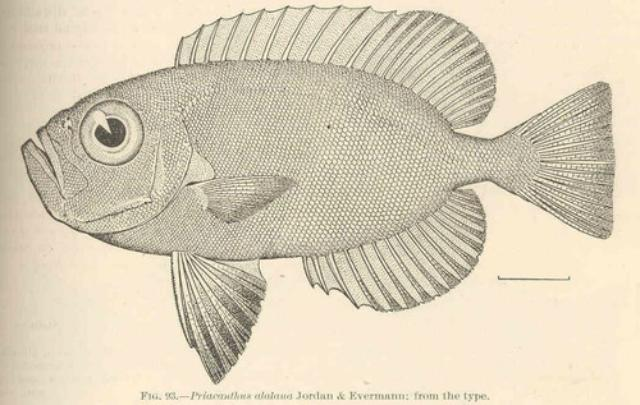Mulut: (14, 111, 74, 198)
Sirip Anal: (301, 189, 487, 313)
Sirip Dada: (193, 164, 301, 228)
Sirip Ekor: (508, 79, 618, 243)
Sirip Perut: (172, 241, 264, 389)
Sirip Punggung: (172, 0, 498, 128)
